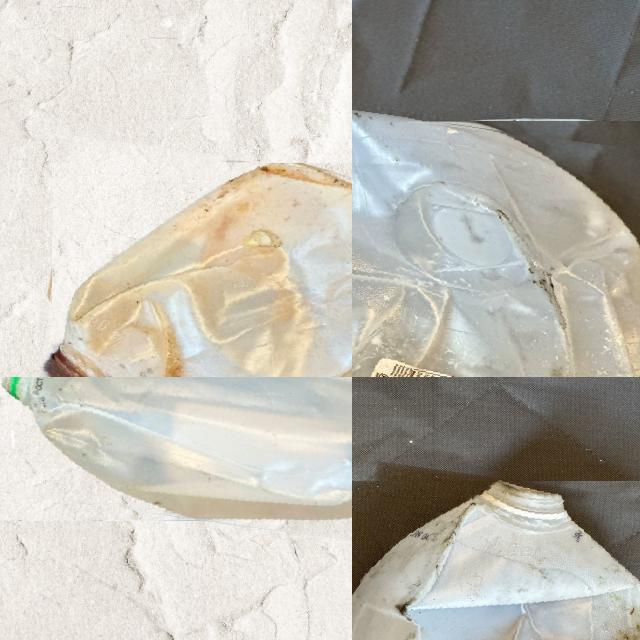milk-jug: (352, 102, 640, 377), (43, 149, 352, 377), (0, 377, 352, 535), (352, 471, 640, 640)
